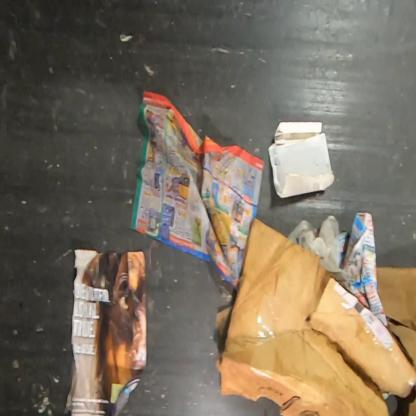cardboard: (214, 217, 415, 415), (268, 121, 336, 198), (408, 393, 415, 415)
soft_plastic: (287, 214, 342, 273)
